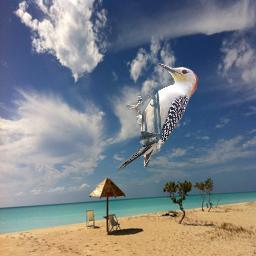Woodpecker: (117, 61, 200, 172)
